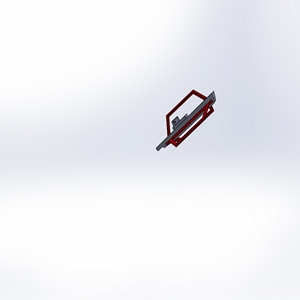submarine: (146, 86, 237, 162)
